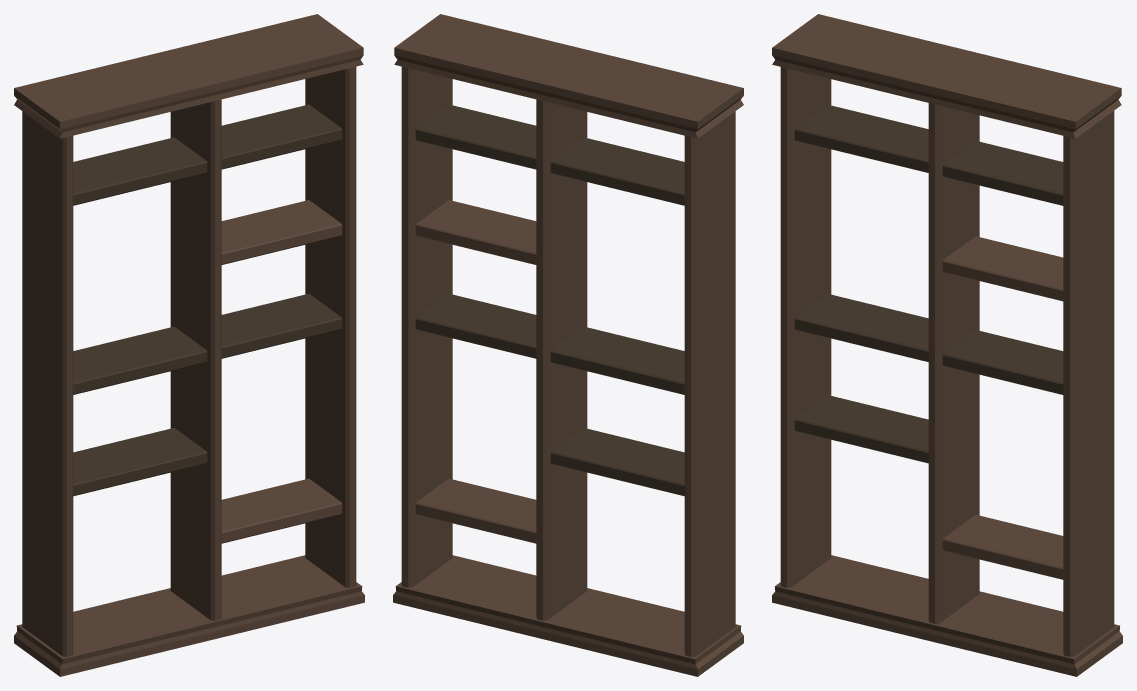
Rendered from Cupboard_6.fbx.
3 views of the same model, side by side, from view 1: azimuth 30°, elevation 25°; view 2: azimuth 150°, elevation 25°; view 3: azimuth 330°, elevation 25° (orthographic).
Parts seen in each view (by area): view 1: polySurface2959; view 2: polySurface2959; view 3: polySurface2959.
Boxes of the visible parts, x1=… form: polySurface2959: x1=14, y1=14, x2=364, y2=676; polySurface2959: x1=393, y1=14, x2=743, y2=676; polySurface2959: x1=772, y1=14, x2=1122, y2=676.
Size of the model in its own units: 204 by 354 by 53.36.
